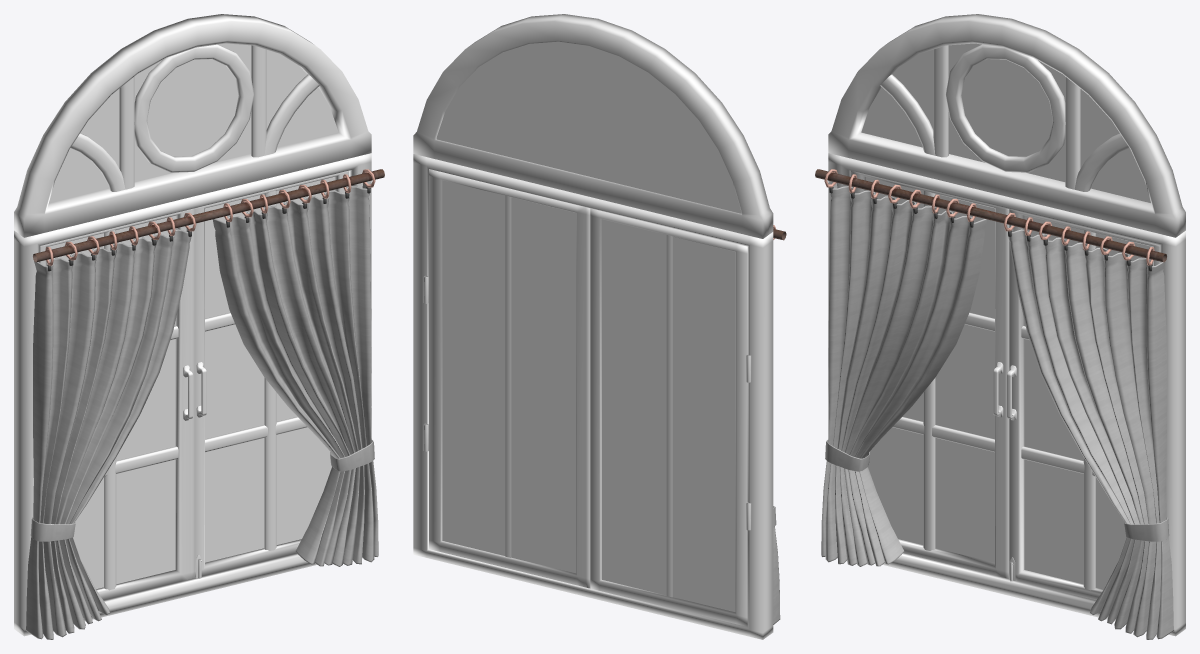
Rendered from a_sch_class1a_curtain01_open.gltf.
The picture shows the model from 3 angles, left to right: view 1: azimuth 30°, elevation 25°; view 2: azimuth 150°, elevation 25°; view 3: azimuth 330°, elevation 25°; orthographic projection.
Visible parts, largest first — view 1: um_a_sch_class1a_curtain01_model_a_sch_class1a_curtain01_mod (×3), a_sch_class1a_windowglass01_right_door03_mesh1_shape:a_sch_c, a_sch_class1a_windowglass01_left_door03_mesh1_shape:a_sch_cl; view 2: um_a_sch_class1a_curtain01_model_a_sch_class1a_curtain01_mod (×3), a_sch_class1a_windowglass01_left_door03_mesh1_shape:a_sch_cl, a_sch_class1a_windowglass01_right_door03_mesh1_shape:a_sch_c; view 3: um_a_sch_class1a_curtain01_model_a_sch_class1a_curtain01_mod (×3), a_sch_class1a_windowglass01_left_door03_mesh1_shape:a_sch_cl, a_sch_class1a_windowglass01_right_door03_mesh1_shape:a_sch_c.
Boxes of the visible parts, x1,y1,x2,y2 form: um_a_sch_class1a_curtain01_model_a_sch_class1a_curtain01_mod (×3): (14, 14, 384, 639); a_sch_class1a_windowglass01_right_door03_mesh1_shape:a_sch_c: (205, 177, 333, 562); a_sch_class1a_windowglass01_left_door03_mesh1_shape:a_sch_cl: (46, 215, 175, 589); um_a_sch_class1a_curtain01_model_a_sch_class1a_curtain01_mod (×3): (413, 14, 786, 639); a_sch_class1a_windowglass01_left_door03_mesh1_shape:a_sch_cl: (601, 219, 735, 612); a_sch_class1a_windowglass01_right_door03_mesh1_shape:a_sch_c: (442, 180, 576, 573); um_a_sch_class1a_curtain01_model_a_sch_class1a_curtain01_mod (×3): (815, 14, 1185, 639); a_sch_class1a_windowglass01_left_door03_mesh1_shape:a_sch_cl: (866, 177, 994, 562); a_sch_class1a_windowglass01_right_door03_mesh1_shape:a_sch_c: (1024, 215, 1153, 589).
Size of the model in its own units: 1.58 by 2.47 by 0.2216.
Materials: 3 (1 with a texture image).
